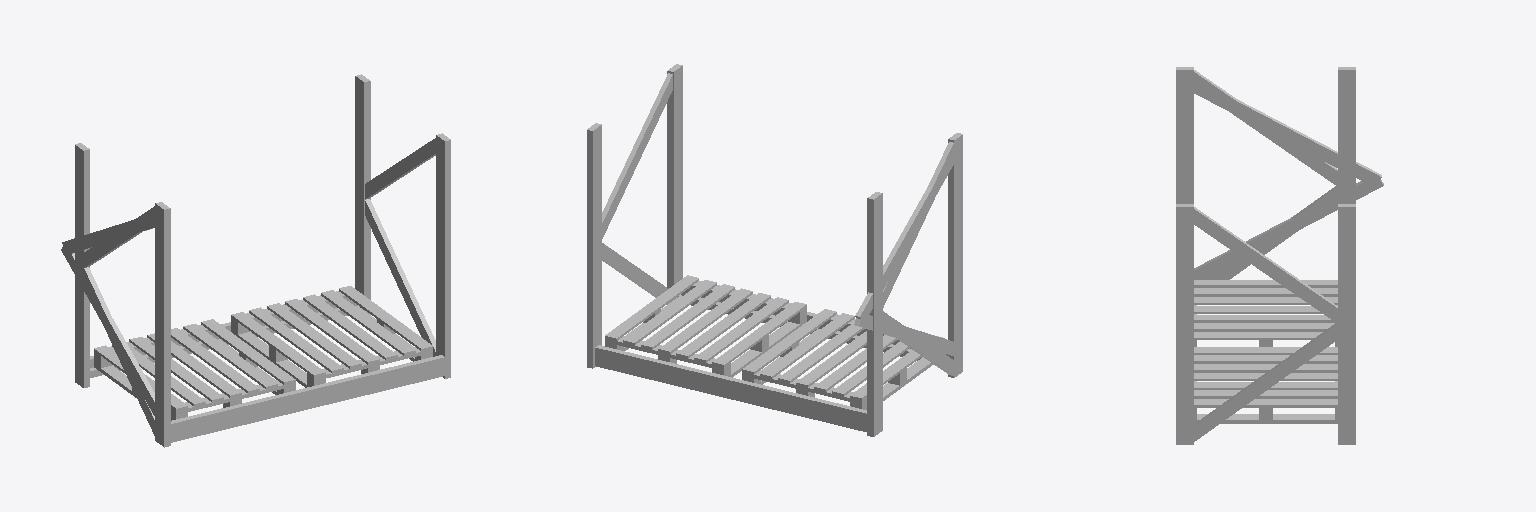
Rendered from Longarina_Junto_2pallets.obj.
The picture shows the model from 3 angles: view 1: azimuth 30°, elevation 25°; view 2: azimuth 150°, elevation 25°; view 3: azimuth 270°, elevation 25°; orthographic projection.
Visible parts, largest first — view 1: Cube.002_Cube.003, Proteção_Lateral_Esquerda_Cube.016; view 2: Cube.002_Cube.003, Proteção_Lateral_Esquerda_Cube.016; view 3: Cube.002_Cube.003, Proteção_Lateral_Esquerda_Cube.016.
Boxes of the visible parts, <box> form: Cube.002_Cube.003: <box>75,74,450,447</box>; Proteção_Lateral_Esquerda_Cube.016: <box>61,213,154,415</box>; Cube.002_Cube.003: <box>587,64,962,436</box>; Proteção_Lateral_Esquerda_Cube.016: <box>854,151,953,355</box>; Cube.002_Cube.003: <box>1176,67,1355,444</box>; Proteção_Lateral_Esquerda_Cube.016: <box>1194,79,1383,279</box>.
Bounding box in the file's own units: 2.4 × 1.9 × 1.5.